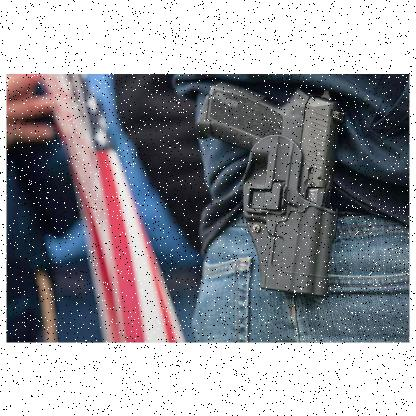gun: (197, 81, 338, 296)
